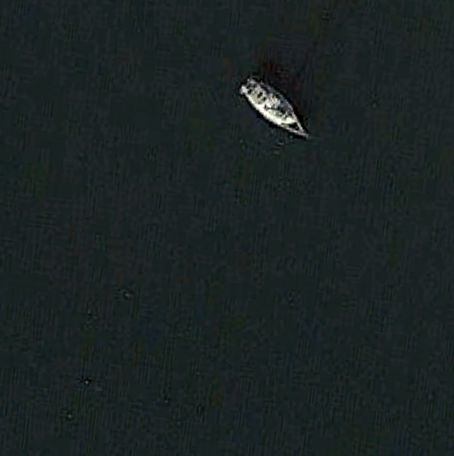boat: (241, 73, 311, 140)
